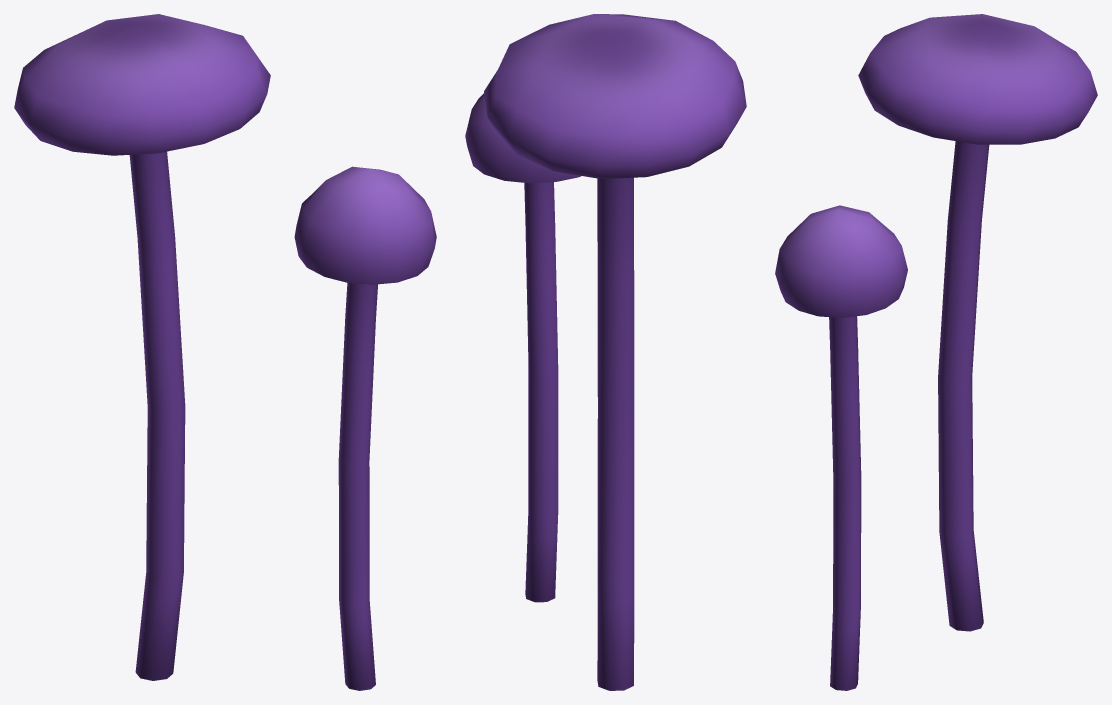
Rendered from Amethyst_Deceiver_Group_1.fbx.
The picture shows the model from 3 angles, left to right: view 1: azimuth 30°, elevation 25°; view 2: azimuth 150°, elevation 25°; view 3: azimuth 270°, elevation 25°; orthographic projection. The views are drawn at different scales.
Visible parts, largest first — view 1: Amethyst_Deceiver_Group_1; view 2: Amethyst_Deceiver_Group_1; view 3: Amethyst_Deceiver_Group_1.
Boxes of the visible parts, <box> form: Amethyst_Deceiver_Group_1: <box>14,14,436,690</box>; Amethyst_Deceiver_Group_1: <box>465,14,746,690</box>; Amethyst_Deceiver_Group_1: <box>775,14,1097,690</box>.
Size of the model in its own units: 14.29 by 27.03 by 13.3.
